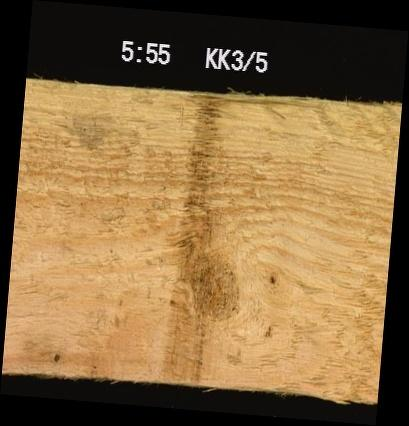small_knot: (264, 271, 279, 287), (50, 348, 62, 365)
sound_knot: (176, 245, 245, 324)
